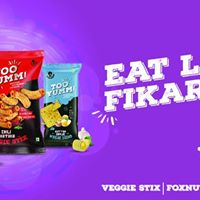plastic: (1, 52, 44, 152), (43, 70, 79, 143)
tooyumm: (1, 63, 30, 81), (47, 82, 77, 97)
wrapper: (2, 53, 84, 144)
